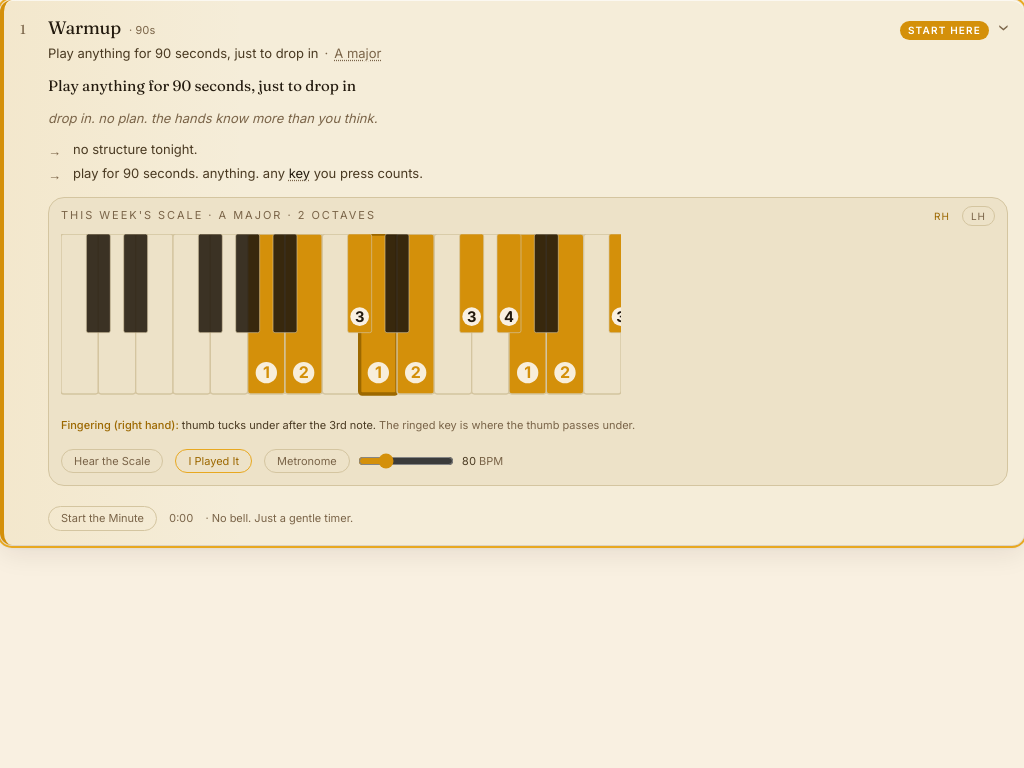
Scenario: "I Played It" — feedback lands ON the chip, and a rage-tap counts once › pluralises the accessible label past the first rep
Click the button with test id "warmup-played-it": [214, 461] box [175,449,252,473]
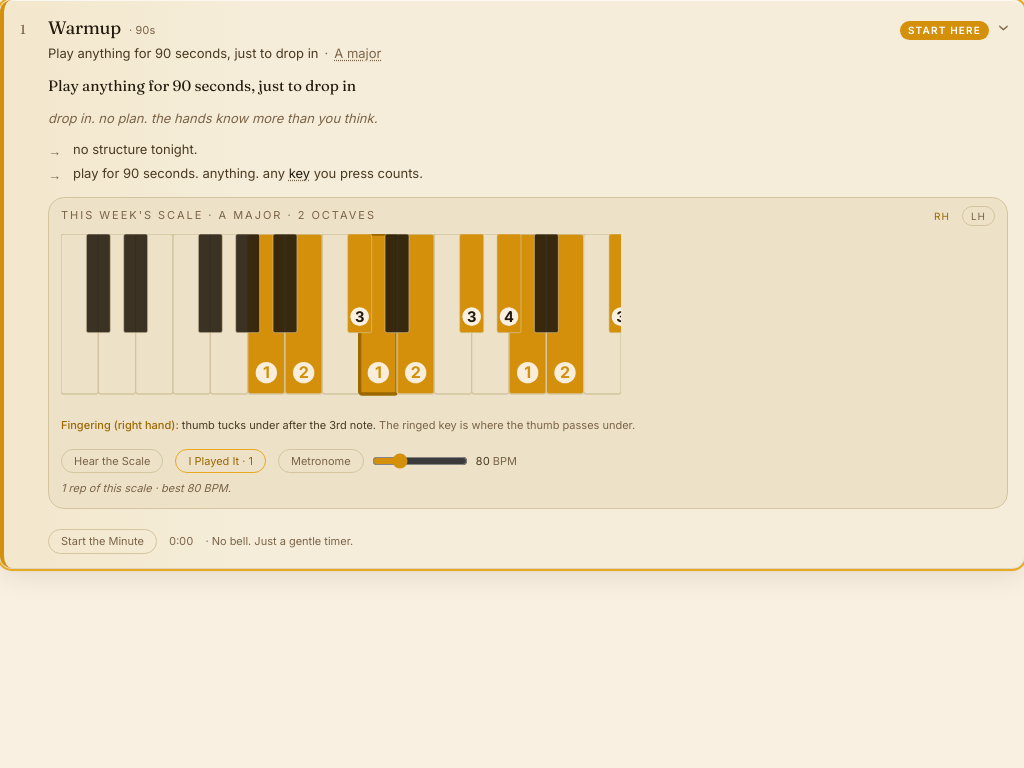
Click the button with test id "warmup-played-it": [221, 461] box [175,449,266,473]
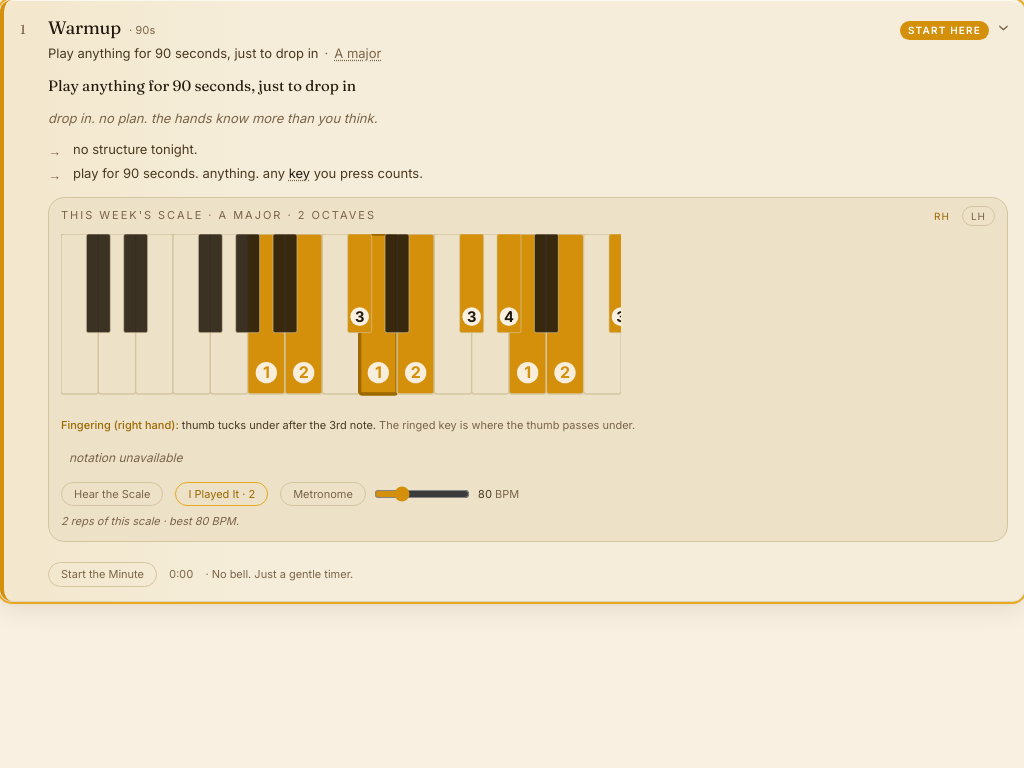
expect the button with test id "warmup-played-it" reads "I Played It · 2": met, box [175,482,268,506]
